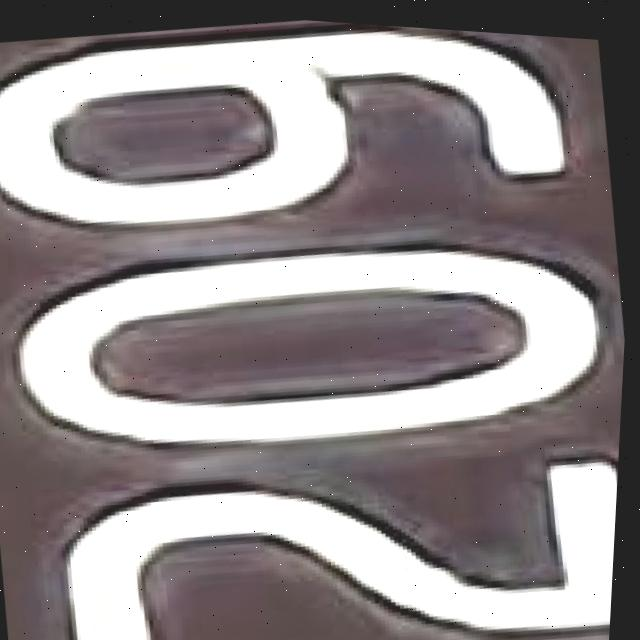character: (0, 190, 626, 509), (0, 0, 586, 280), (40, 408, 619, 640)
